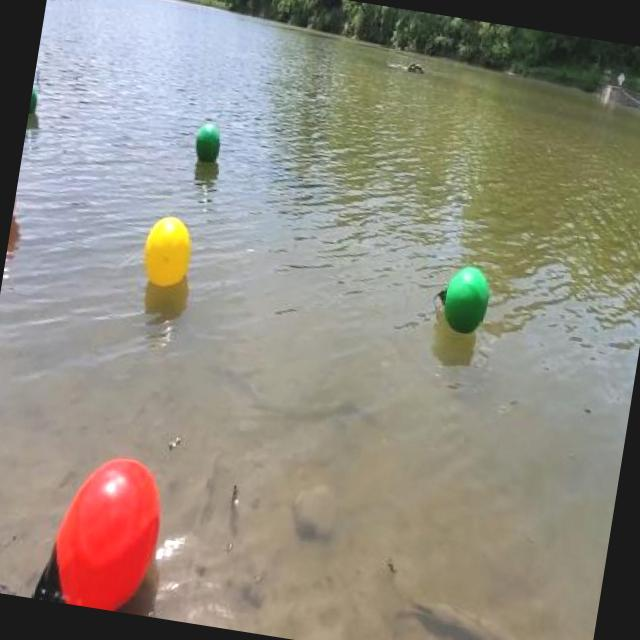buoy: (32, 446, 170, 616), (431, 258, 494, 338), (140, 213, 194, 292), (191, 122, 223, 166)
